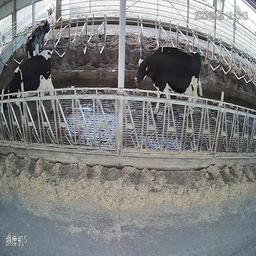cow: (117, 46, 187, 114), (1, 54, 46, 127), (25, 20, 52, 69)
